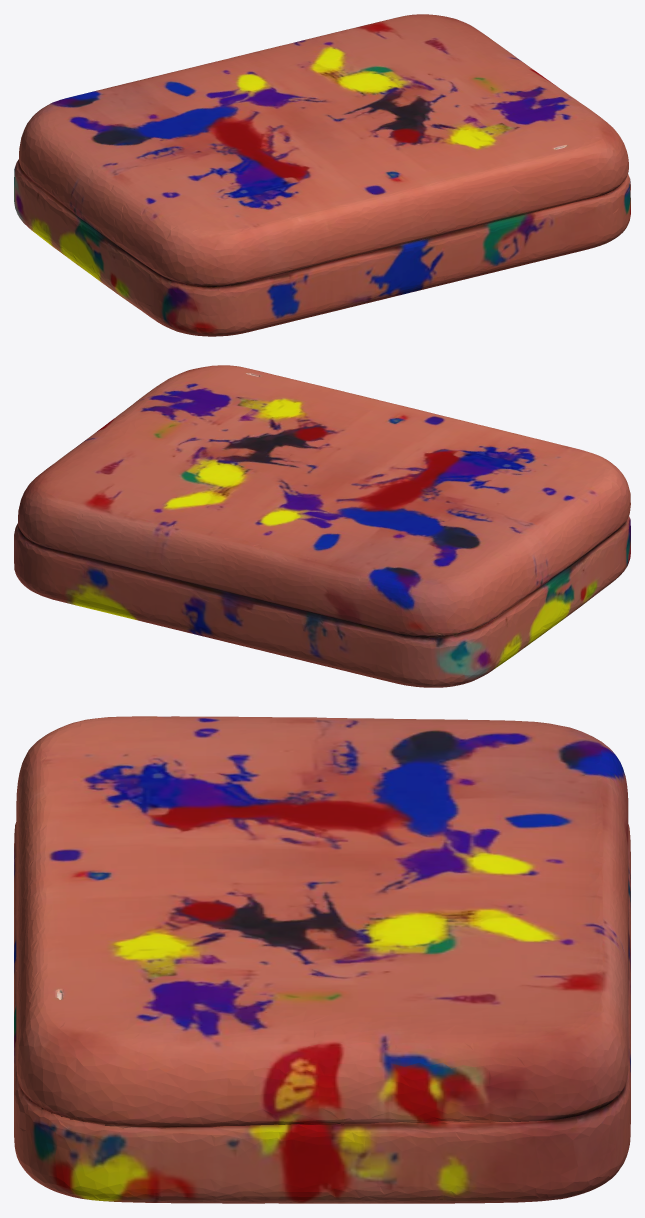
Rendered from lid.glb.
3 renders of one model, top to bottom at view 1: azimuth 30°, elevation 25°; view 2: azimuth 150°, elevation 25°; view 3: azimuth 270°, elevation 25°, orthographic. The views are drawn at different scales.
Visible parts, largest first — view 1: source_surface_0; view 2: source_surface_0; view 3: source_surface_0.
Boxes of the visible parts, box(x1,y1,x2,y2) form: source_surface_0: box(14, 14, 630, 336); source_surface_0: box(14, 365, 630, 687); source_surface_0: box(14, 716, 630, 1203).
Bounding box in the file's own units: 0.2 × 0.0408 × 0.1464.
1 material, 1 textured.
